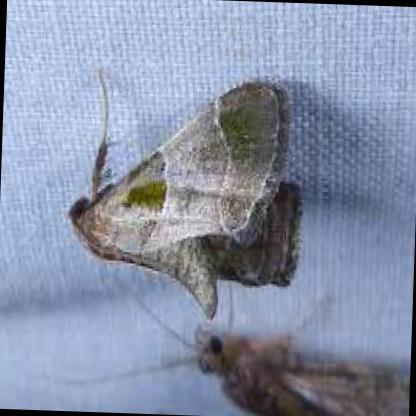Leaf Webber: (65, 60, 307, 322)
